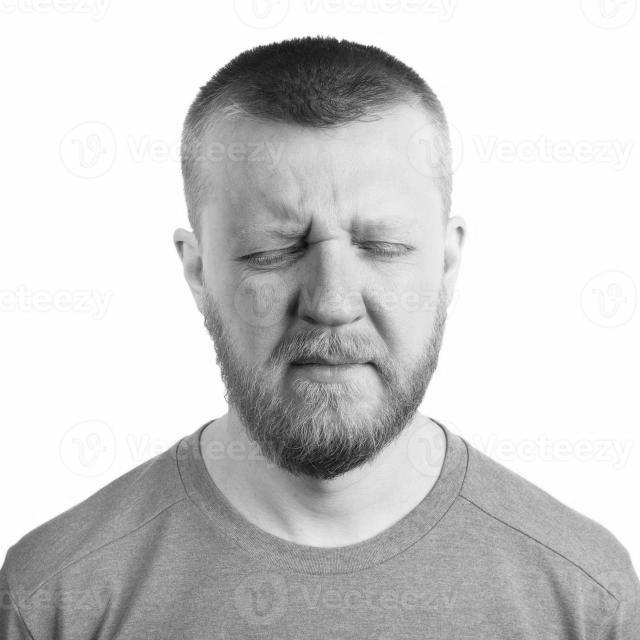real: (173, 75, 466, 477), (224, 204, 436, 282)
